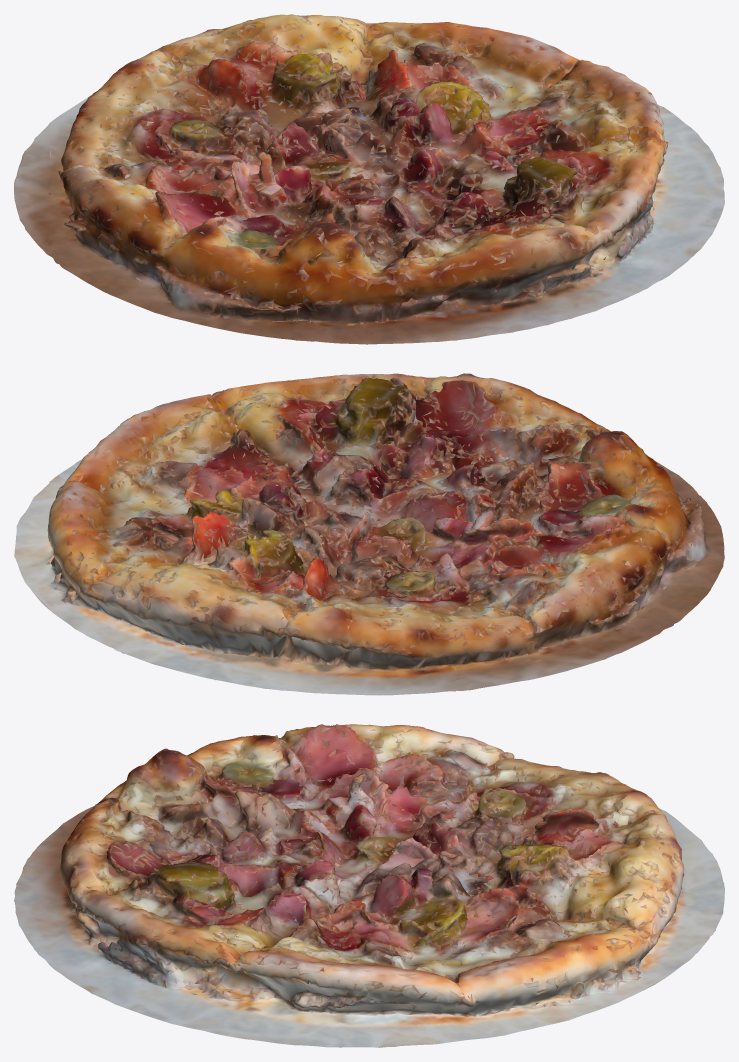
Rendered from pizza3.glb.
The picture shows the model from 3 angles, top to bottom: view 1: azimuth 30°, elevation 25°; view 2: azimuth 150°, elevation 25°; view 3: azimuth 270°, elevation 25°; orthographic projection.
Visible parts, largest first — view 1: decMesh; view 2: decMesh; view 3: decMesh.
Part boxes in pixels (left/top/right/bottom): decMesh: left=14, top=14, right=724, bottom=344; decMesh: left=14, top=373, right=724, bottom=695; decMesh: left=14, top=724, right=724, bottom=1047.
Bounding box in the file's own units: 0.6983 × 0.0847 × 0.698.
Materials: 1 (1 with a texture image).
